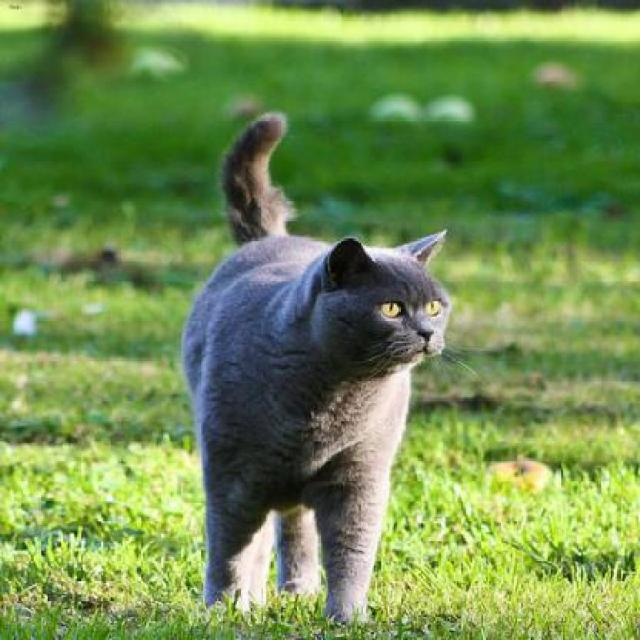cat: (182, 112, 450, 623)
